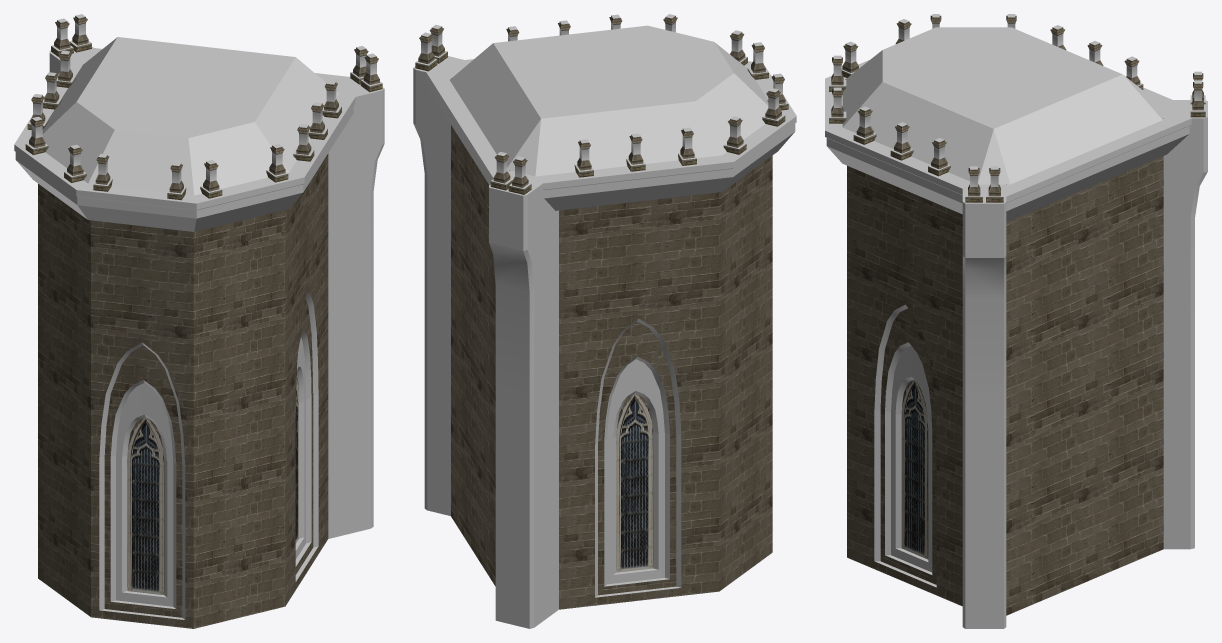
Rendered from SM_TowerUpper.FBX.
The picture shows the model from 3 angles, left to right: view 1: azimuth 30°, elevation 25°; view 2: azimuth 150°, elevation 25°; view 3: azimuth 270°, elevation 25°; orthographic projection.
Visible parts, largest first — view 1: SM_TowerUpper; view 2: SM_TowerUpper; view 3: SM_TowerUpper.
Part boxes in pixels (x1=…): SM_TowerUpper: x1=14, y1=14, x2=384, y2=628; SM_TowerUpper: x1=413, y1=14, x2=796, y2=628; SM_TowerUpper: x1=825, y1=14, x2=1207, y2=628.
Size of what is drawn, in the model's own units: 2802 by 2802 by 3791.
